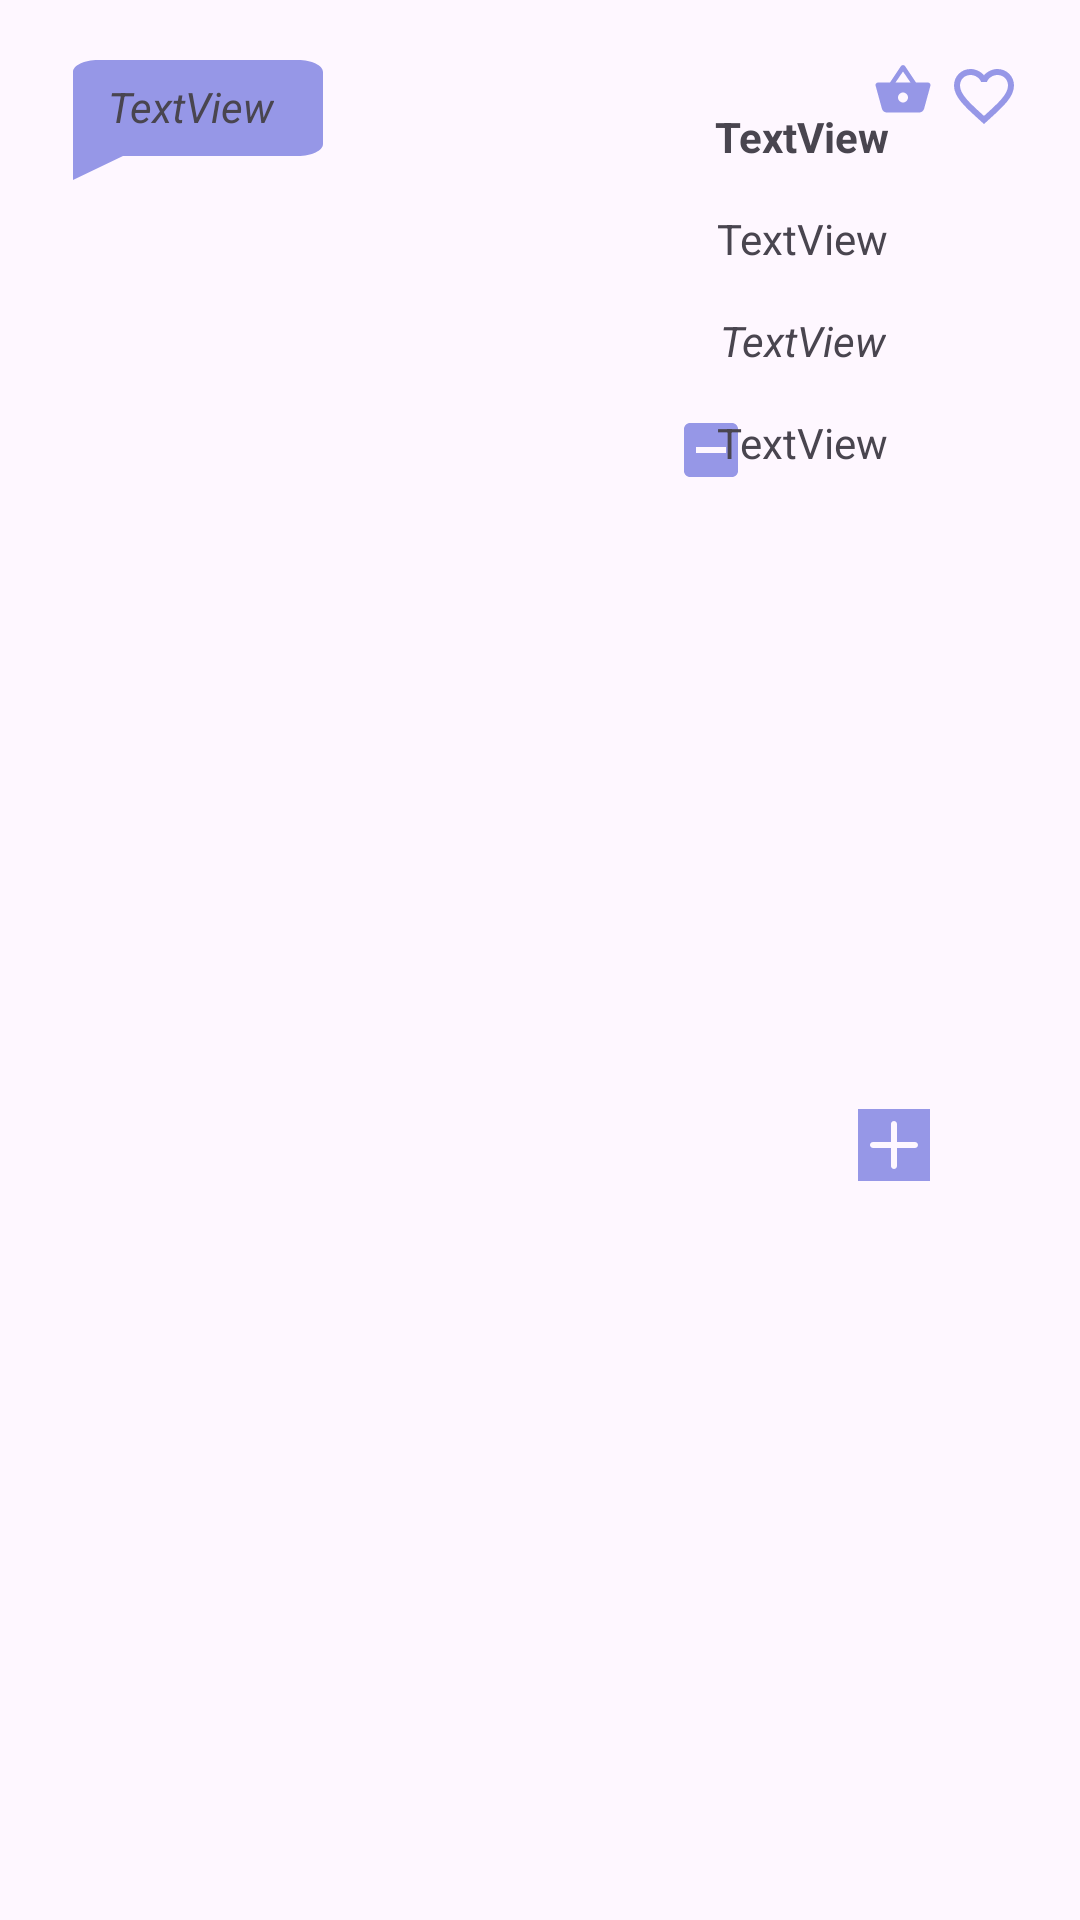

Locate icon controls on the screen. Image size 1080*1920, boxes as box(x1, y1, x2, y2).
favorite border: box(954, 69, 1014, 124)
indeterminate check box: box(684, 423, 741, 477)
shopping basket: box(875, 65, 931, 113)
